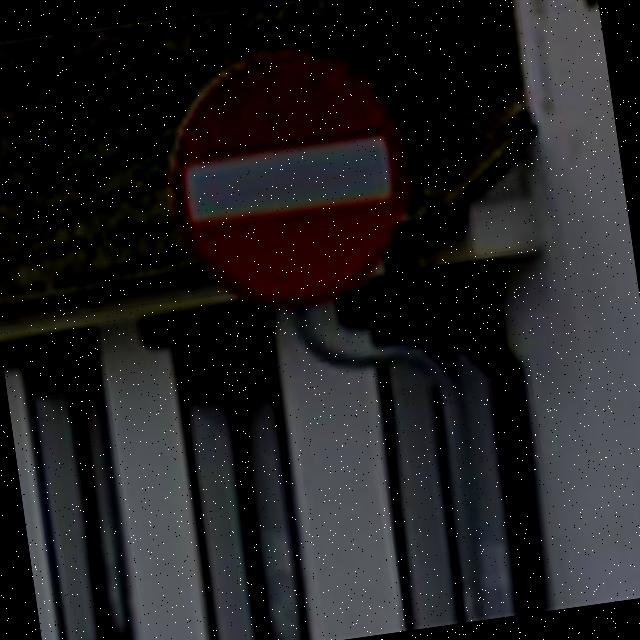Zakaz wjazdu: (154, 35, 423, 325)
